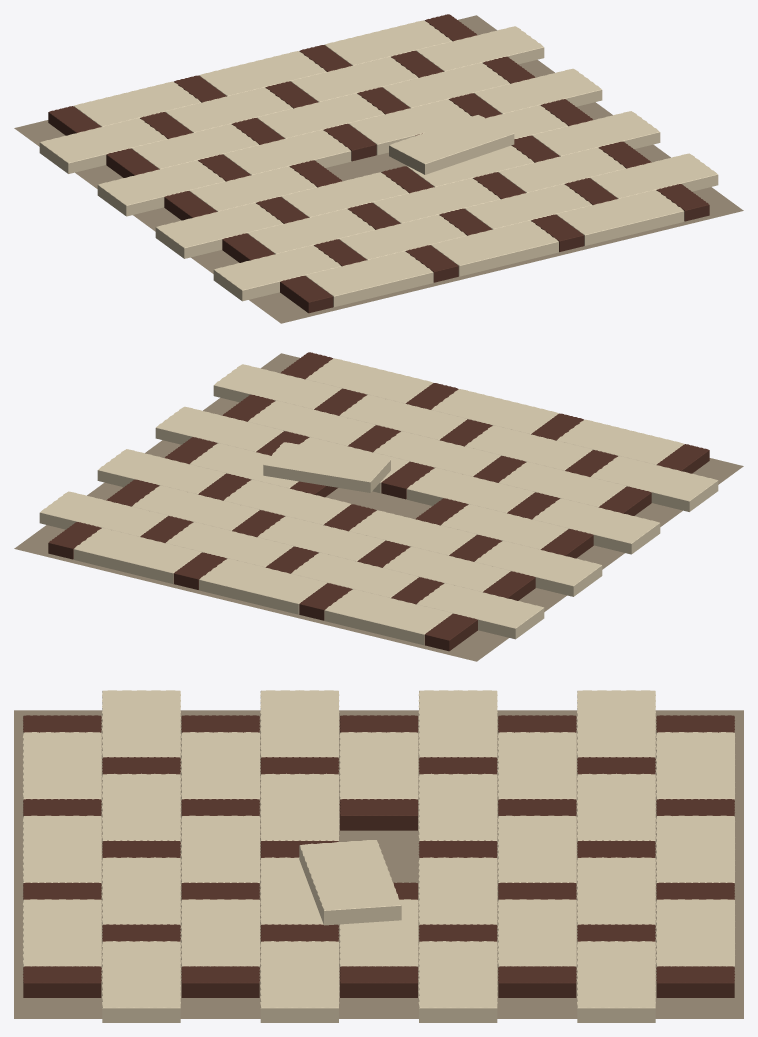
The model's file is terilgan.glb.
The picture shows the model from 3 angles, top to bottom: view 1: azimuth 30°, elevation 25°; view 2: azimuth 150°, elevation 25°; view 3: azimuth 270°, elevation 25°; orthographic projection. The views are drawn at different scales.
Parts seen in each view (by area): view 1: qum, t.031, t.005, t.001, t.003, t.021, t.035, t.049, t.007, t.013, t.037, t.041 (+51 smaller); view 2: qum, t.031, t.061, t.057, t.059, t.021, t.035, t.007, t.049, t.055, t.023, t.027 (+51 smaller); view 3: qum, t.031, t.027, t.041, t.013, t.055, t.029, t.019, t.047, t.005, t.021, t.035 (+51 smaller).
Boxes of the visible parts, left/top/right/bottom form: qum: left=14, top=15, right=743, bottom=323; t.031: left=389, top=115, right=514, bottom=174; t.005: left=556, top=190, right=684, bottom=245; t.001: left=305, top=251, right=433, bottom=307; t.003: left=431, top=220, right=558, bottom=276; t.021: left=155, top=203, right=283, bottom=258; t.035: left=97, top=160, right=225, bottom=216; t.049: left=39, top=118, right=167, bottom=173; t.007: left=213, top=245, right=341, bottom=301; t.013: left=590, top=153, right=718, bottom=198; t.037: left=223, top=130, right=351, bottom=175; t.041: left=474, top=68, right=602, bottom=113; qum: left=14, top=353, right=743, bottom=661; t.031: left=263, top=442, right=390, bottom=492; t.061: left=73, top=528, right=201, bottom=583; t.057: left=324, top=589, right=452, bottom=645; t.059: left=199, top=558, right=326, bottom=614; t.021: left=532, top=498, right=660, bottom=554; t.035: left=474, top=541, right=602, bottom=596; t.007: left=590, top=456, right=718, bottom=511; t.049: left=416, top=583, right=544, bottom=639; t.055: left=39, top=491, right=167, bottom=536; t.023: left=406, top=468, right=534, bottom=513; t.027: left=155, top=406, right=283, bottom=451; qum: left=14, top=710, right=743, bottom=1018; t.031: left=299, top=840, right=401, bottom=925; t.027: left=260, top=941, right=339, bottom=1022; t.041: left=418, top=941, right=497, bottom=1022; t.013: left=102, top=941, right=180, bottom=1022; t.055: left=577, top=941, right=655, bottom=1022; t.029: left=339, top=732, right=418, bottom=812; t.019: left=181, top=899, right=260, bottom=979; t.047: left=497, top=899, right=576, bottom=979; t.005: left=23, top=899, right=101, bottom=979; t.021: left=260, top=690, right=339, bottom=770; t.035: left=418, top=690, right=497, bottom=770.
Bounding box in the file's own units: 1.71 × 0.078 × 1.66.
